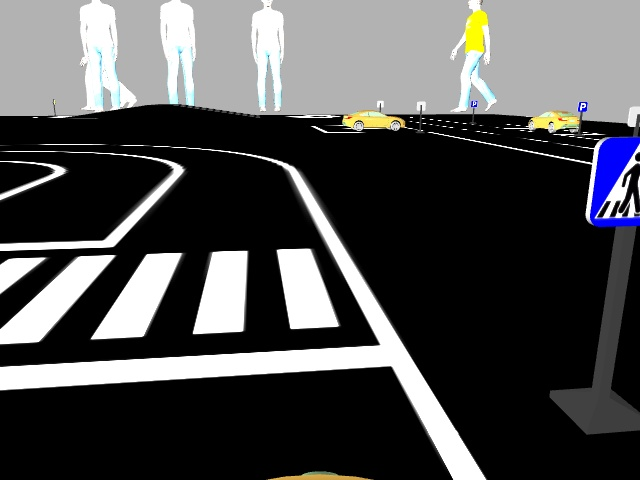Crosswalk: (586, 137, 639, 228)
Parking: (576, 100, 590, 112)
